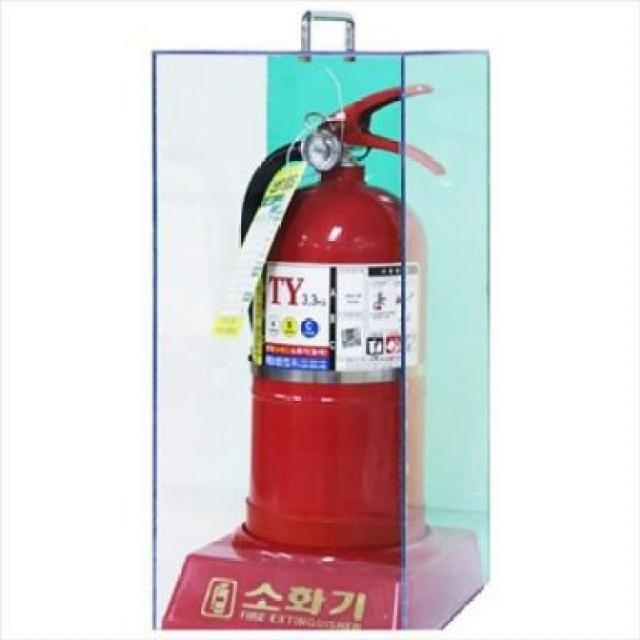fire extinguisher: (239, 83, 445, 549)
